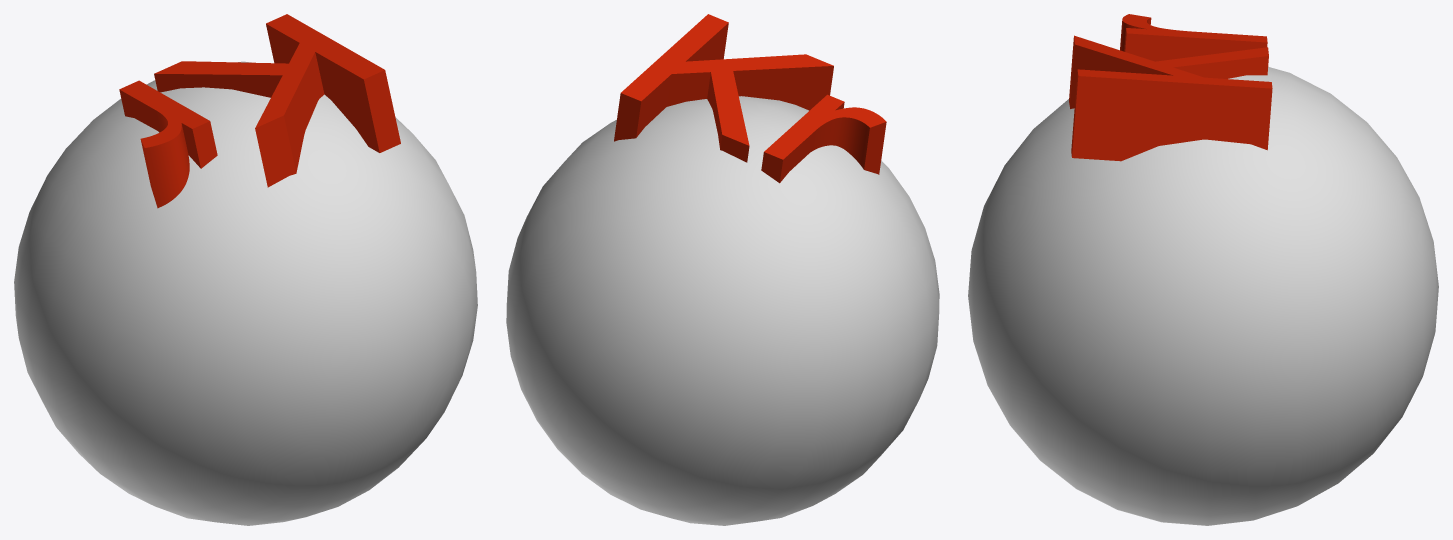
3 views of the same model, side by side, from view 1: azimuth 30°, elevation 25°; view 2: azimuth 150°, elevation 25°; view 3: azimuth 270°, elevation 25° (orthographic). The views are drawn at different scales.
Visible parts, largest first — view 1: Kr; view 2: Kr; view 3: Kr.
Part boxes in pixels (left/top/right/bottom): Kr: left=14, top=14, right=477, bottom=525; Kr: left=506, top=14, right=939, bottom=525; Kr: left=968, top=14, right=1438, bottom=525.
Size of the model in its own units: 38.7 by 42.38 by 38.73.
